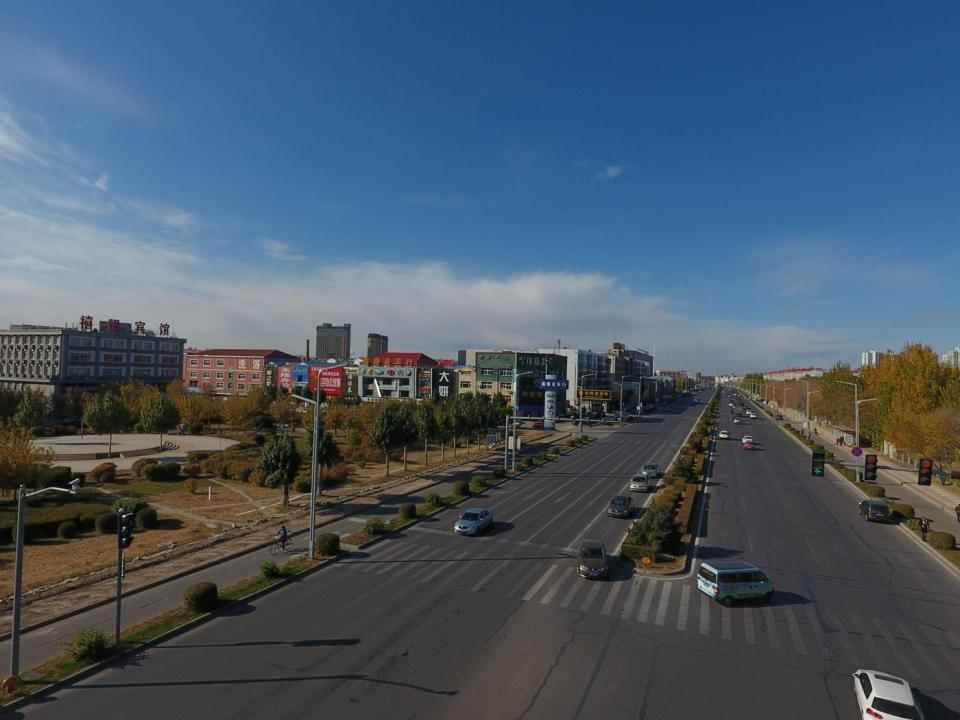car: (853, 669, 924, 720), (578, 538, 608, 580), (455, 508, 492, 534), (859, 499, 890, 524), (607, 494, 634, 516), (629, 474, 651, 492), (640, 462, 660, 478), (532, 421, 552, 429), (743, 440, 755, 450), (718, 430, 730, 439), (572, 419, 587, 426), (741, 436, 753, 444), (506, 420, 521, 426), (608, 416, 619, 422), (612, 408, 625, 413), (613, 412, 621, 419), (601, 419, 612, 424), (616, 407, 627, 412), (567, 413, 576, 419), (621, 414, 630, 420), (733, 418, 741, 424), (743, 405, 749, 411), (646, 404, 653, 409), (775, 415, 782, 420), (758, 398, 766, 402), (636, 409, 642, 414), (750, 413, 756, 418), (664, 406, 670, 410), (746, 410, 752, 414), (754, 398, 762, 401), (693, 398, 698, 402), (745, 406, 750, 410), (740, 402, 745, 406), (732, 406, 737, 410), (681, 398, 685, 402), (729, 402, 733, 406), (731, 410, 736, 413), (729, 400, 734, 403), (738, 401, 742, 404), (736, 397, 740, 400), (744, 397, 747, 400), (738, 400, 742, 402), (737, 398, 741, 400), (735, 396, 739, 398), (726, 394, 730, 396), (728, 395, 731, 397), (734, 393, 736, 396), (728, 392, 731, 394), (699, 390, 701, 392), (702, 389, 704, 391), (723, 391, 725, 393), (722, 390, 724, 392), (732, 391, 734, 393)
truck: (734, 407, 742, 417)
van: (698, 560, 776, 606), (617, 407, 626, 412)
